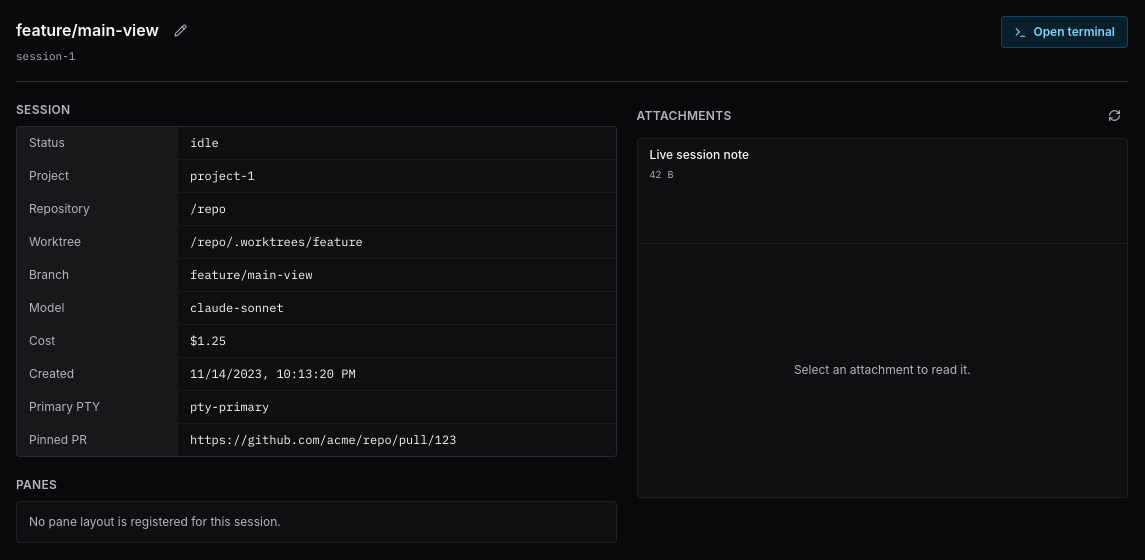
Test: SessionDetailView › keeps pending attachment reads alive across same-session metadata updates
Click the button "Live session note 42 B" at (699, 154), box [638,138,1127,190]
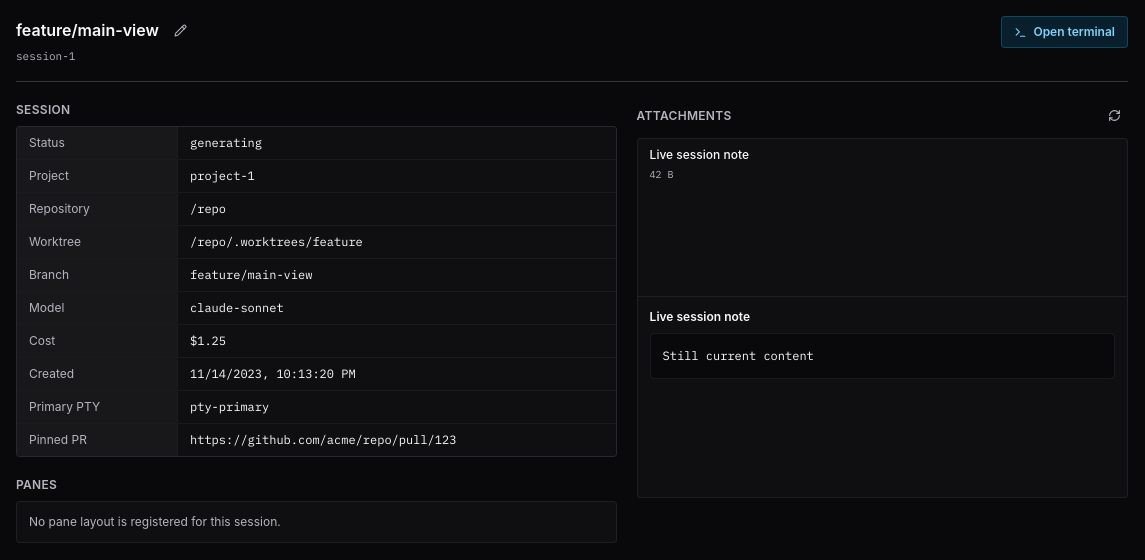
Check: the text "Still current content" is shown, box [650,332,1115,378]
